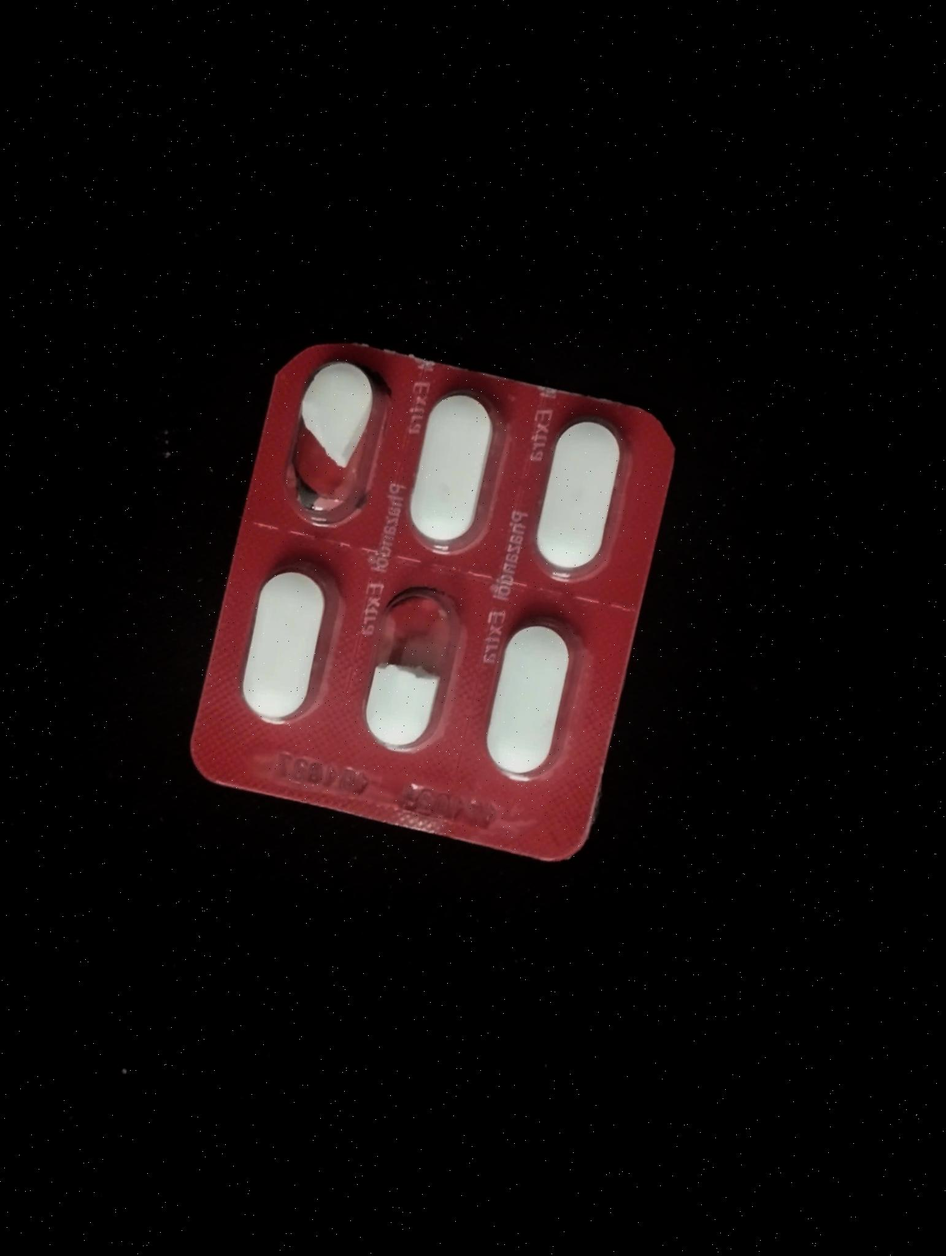Full: (391, 383, 518, 556), (524, 412, 633, 589), (476, 615, 582, 783), (232, 561, 331, 726)
Partial: (346, 572, 479, 767), (261, 348, 397, 537)
